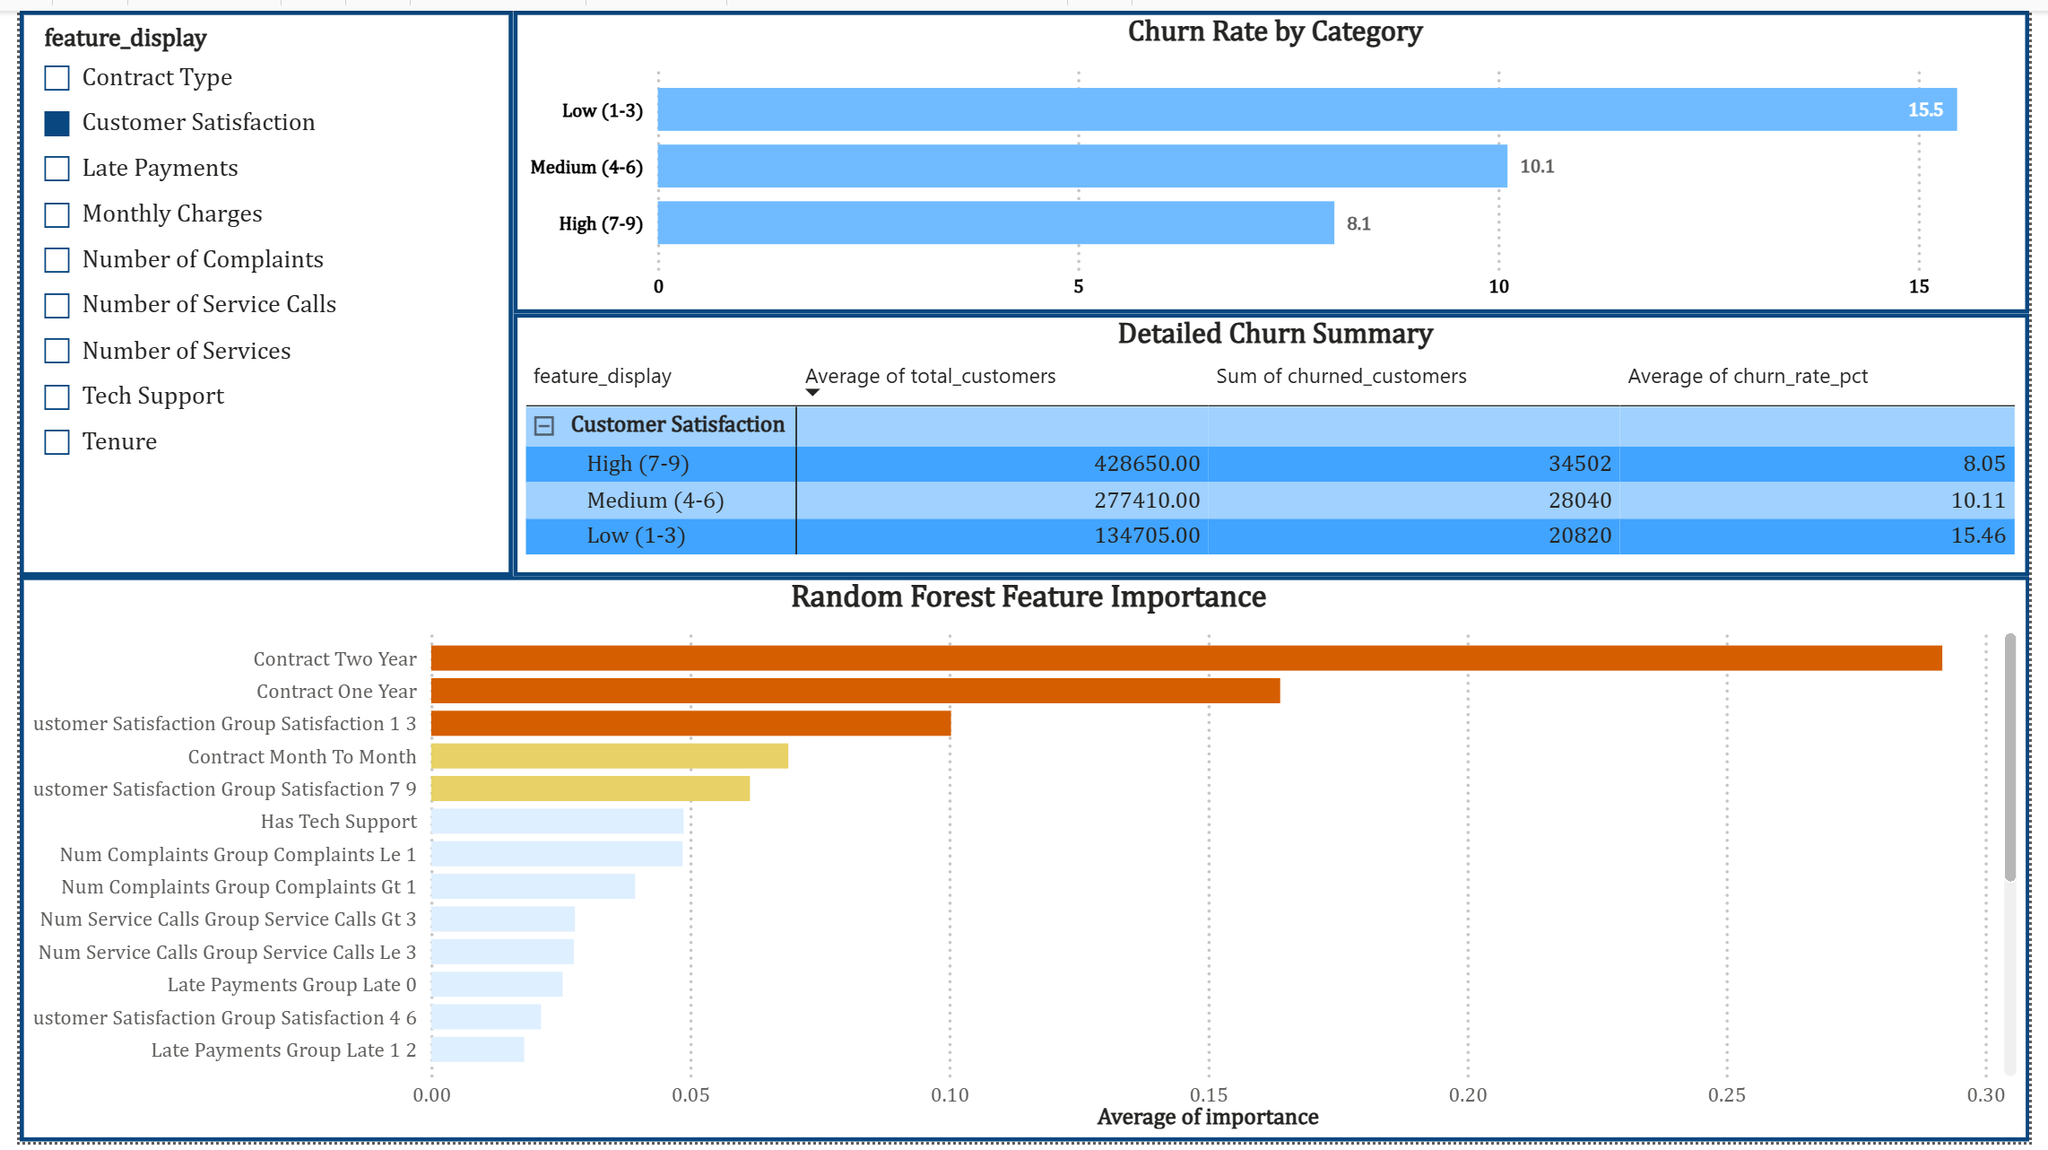

What the dashboard file says about the page in this screenshot:
{"tool":"powerbi","page":{"name":"Churn Drivers","canvas":[1280,720],"ordinal":1},"visuals":[{"type":"slicer","fields":{"Values":["OverallGroupSummary.feature_display"]},"box":[10.5,0,203.5,191.8],"z":0},{"type":"clusteredBarChart","title":"Churn Rate by Category","fields":{"Category":["OverallGroupSummary.category"],"Y":["Sum(OverallGroupSummary.churn_rate_pct)"]},"box":[501.6,9.3,269.9,260.6],"z":1},{"type":"clusteredBarChart","title":"Random Forest Feature Importance","fields":{"Category":["FeatureImportance.feature_clean"],"Y":["Avg(FeatureImportance.importance)"]},"box":[10.5,280.2,1156.8,301.1],"z":2},{"type":"pivotTable","title":"Detailed Churn Summary","fields":{"Rows":["OverallGroupSummary.feature_display","OverallGroupSummary.category"],"Values":["Avg(OverallGroupSummary.total_customers)","Sum(OverallGroupSummary.churned_customers)","Avg(OverallGroupSummary.churn_rate_pct)"]},"box":[10.4,591.9,726.3,114.7],"z":3}]}

Visuals, with their boxes in screenshot pixels (x1, y1, x2, y2), scaled from the page's 1280x720 canvas onto the 2048x1150 screenshot:
slicer - OverallGroupSummary.feature_display: 17/0/342/306
"Churn Rate by Category" clusteredBarChart: 803/15/1234/431
"Random Forest Feature Importance" clusteredBarChart: 17/448/1868/928
"Detailed Churn Summary" pivotTable: 17/945/1179/1129
